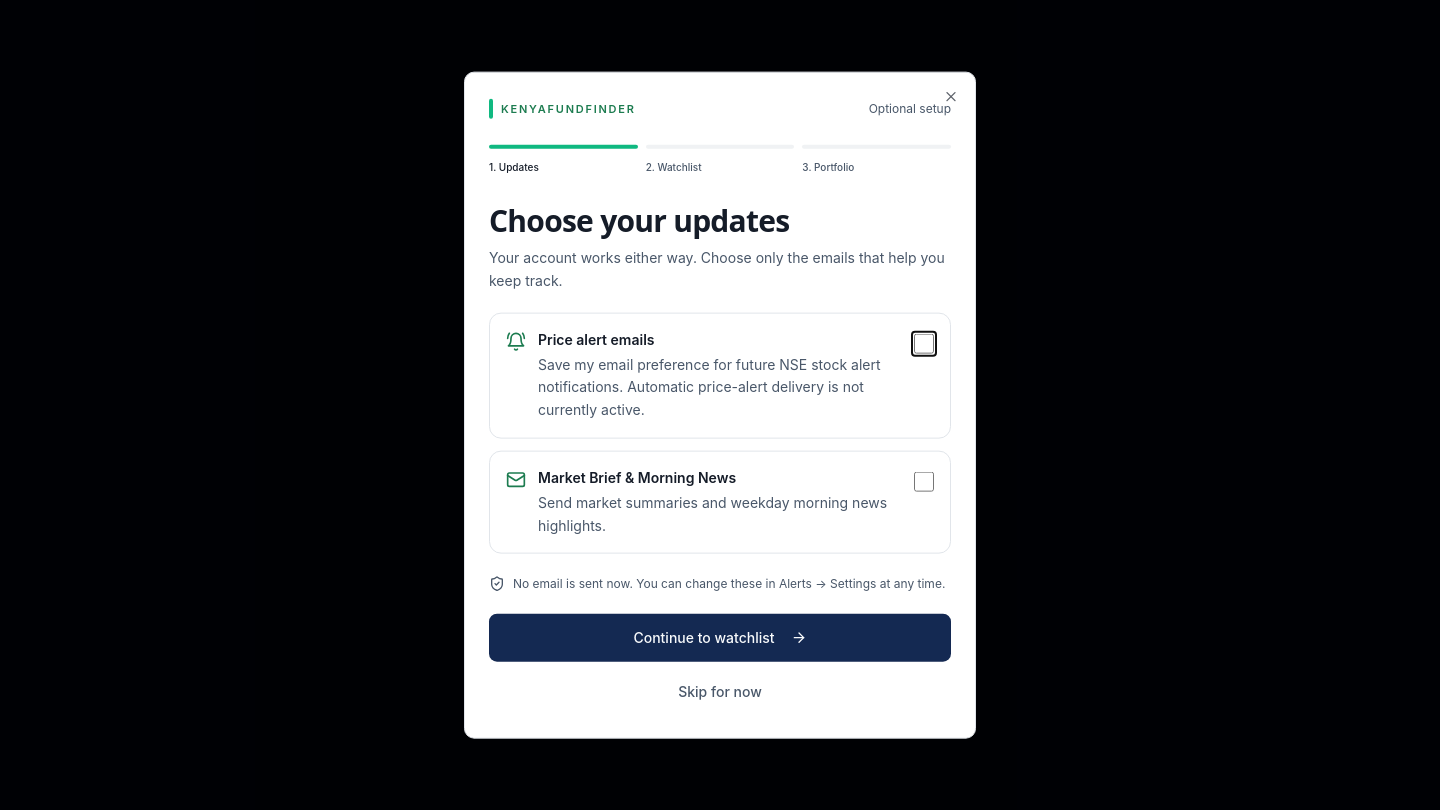
it: OnboardingSetup › limits the watchlist to five and keeps fixed income for the portfolio step
Later steps or results of the test are not shown.
Click the button "Continue to watchlist" at (720, 637), box x1=489 y1=613 x2=951 y2=661
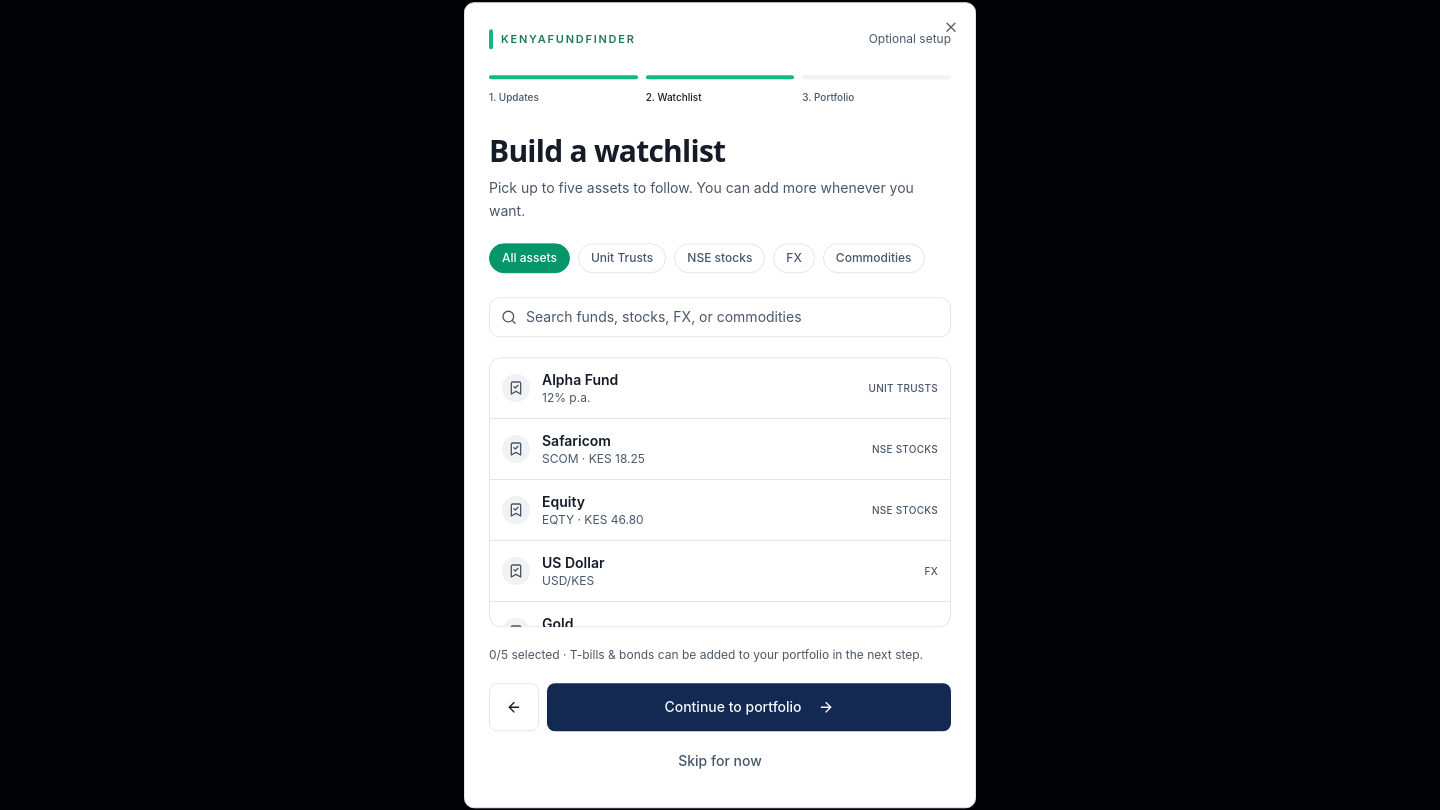
Click the button "Alpha Fund 12% p.a. Unit Trusts" at (580, 379), box x1=490 y1=358 x2=950 y2=418
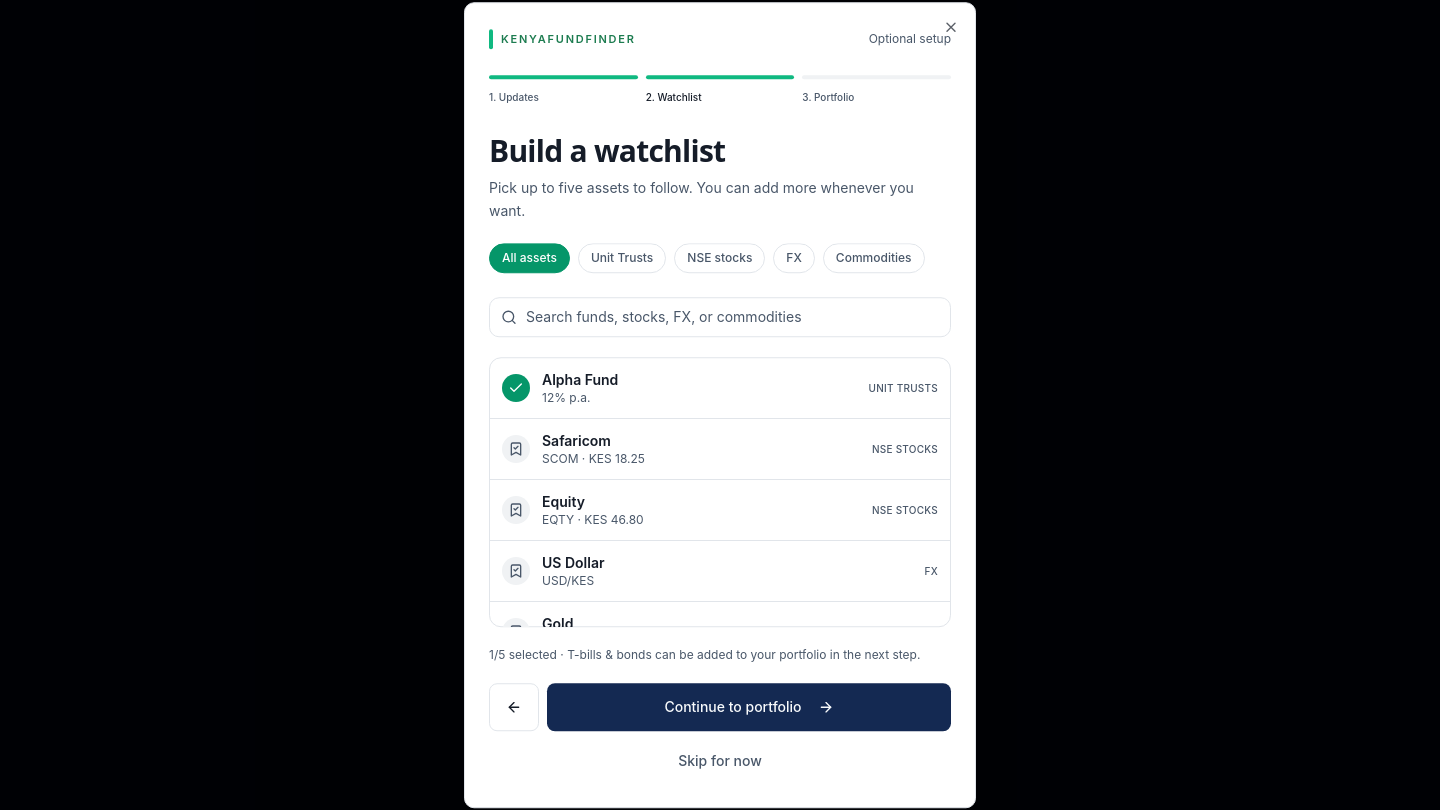
Click the button "Safaricom SCOM · KES 18.25 NSE stocks" at (576, 440), box x1=490 y1=418 x2=950 y2=479
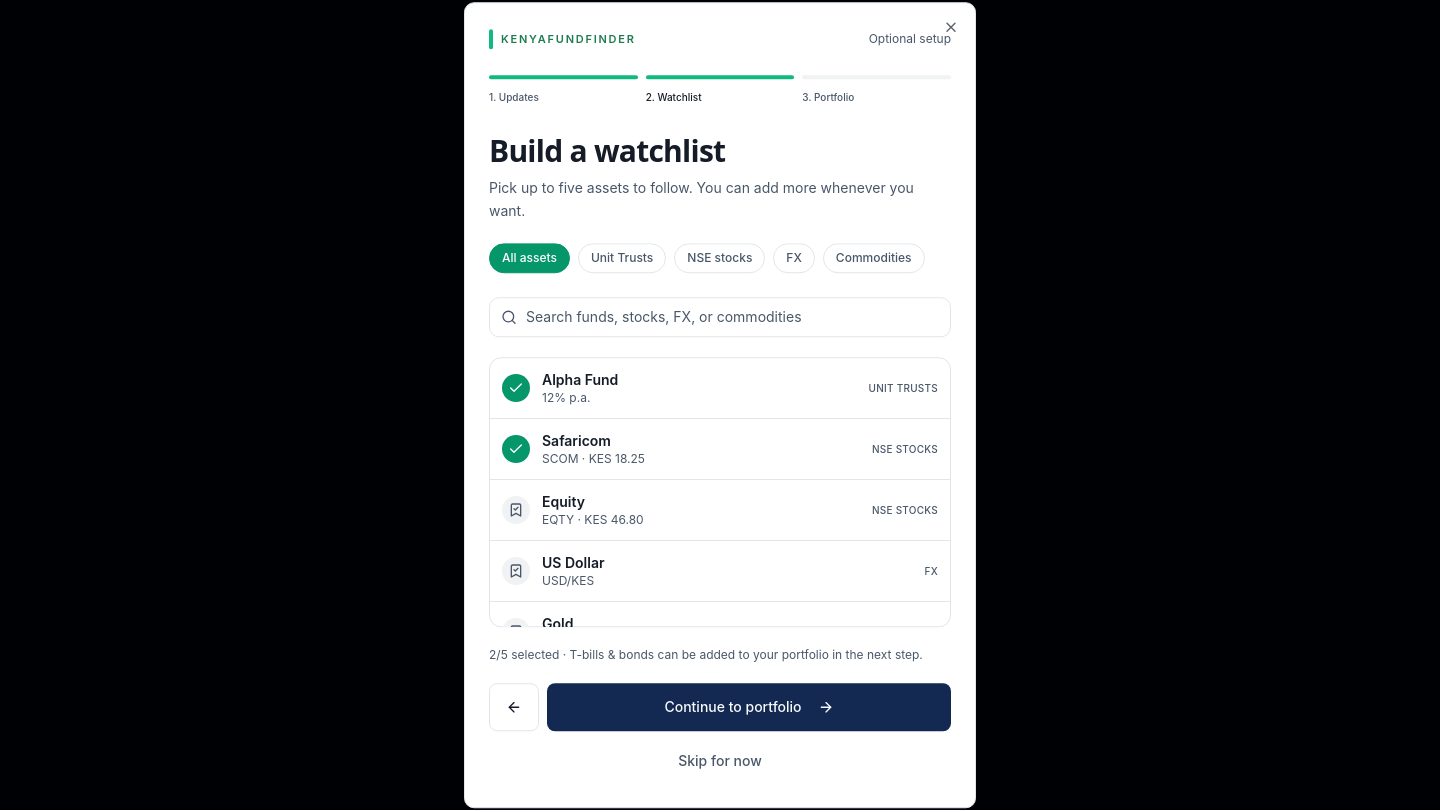
Click the button "Equity EQTY · KES 46.80 NSE stocks" at (563, 501), box x1=490 y1=479 x2=950 y2=540
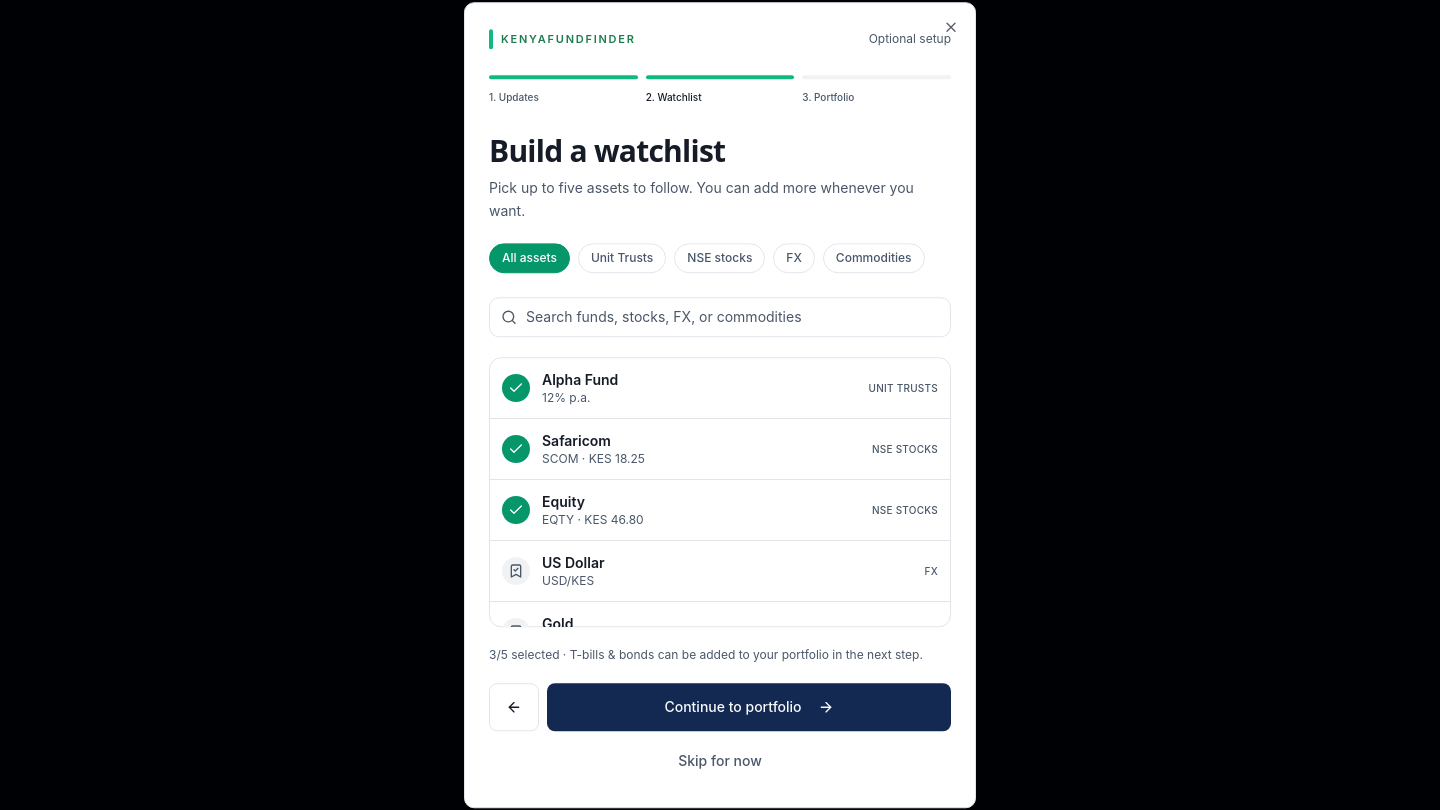
Click the button "US Dollar USD/KES FX" at (573, 562), box x1=490 y1=540 x2=950 y2=601
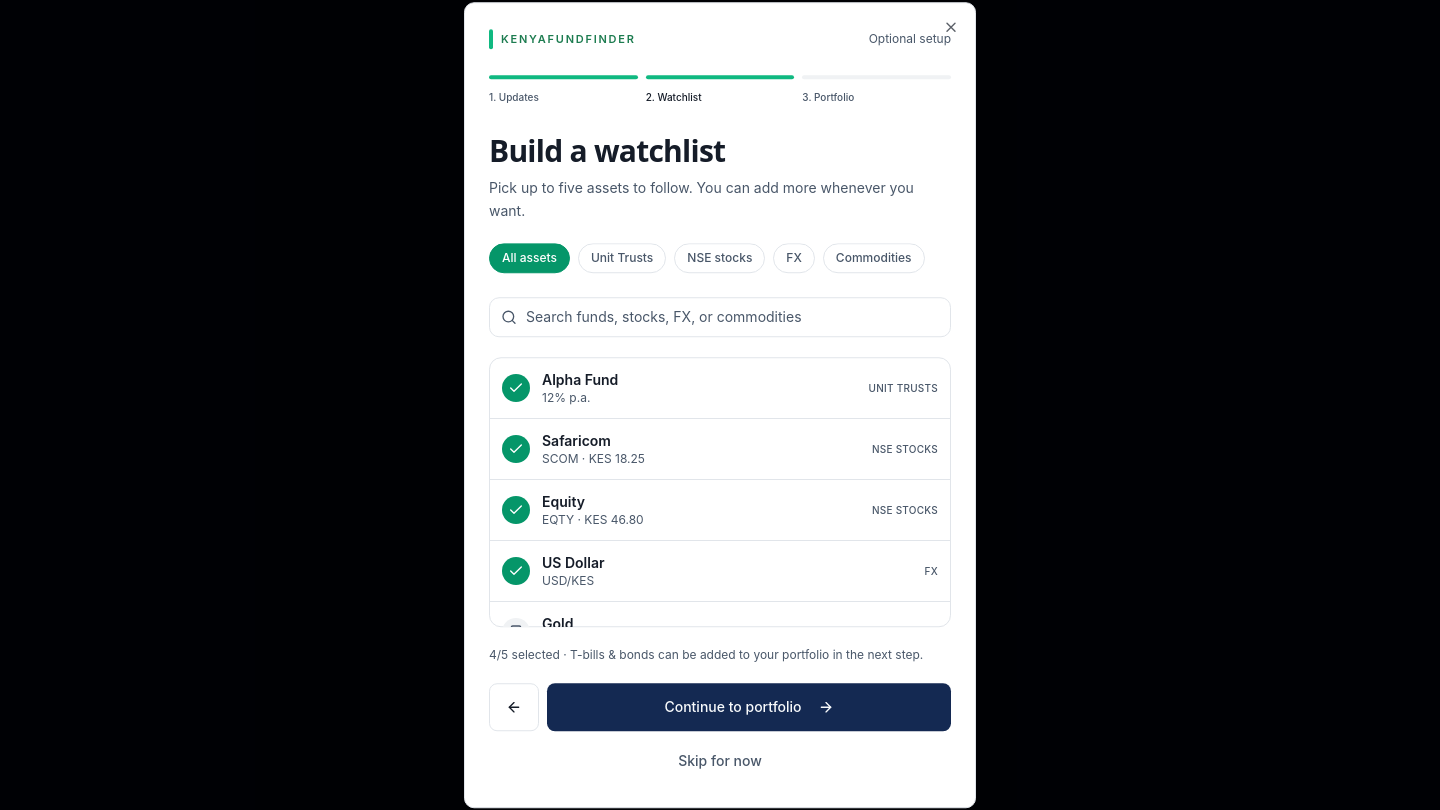
Click the button "Gold XAU Commodities" at (558, 623), box x1=490 y1=601 x2=950 y2=662
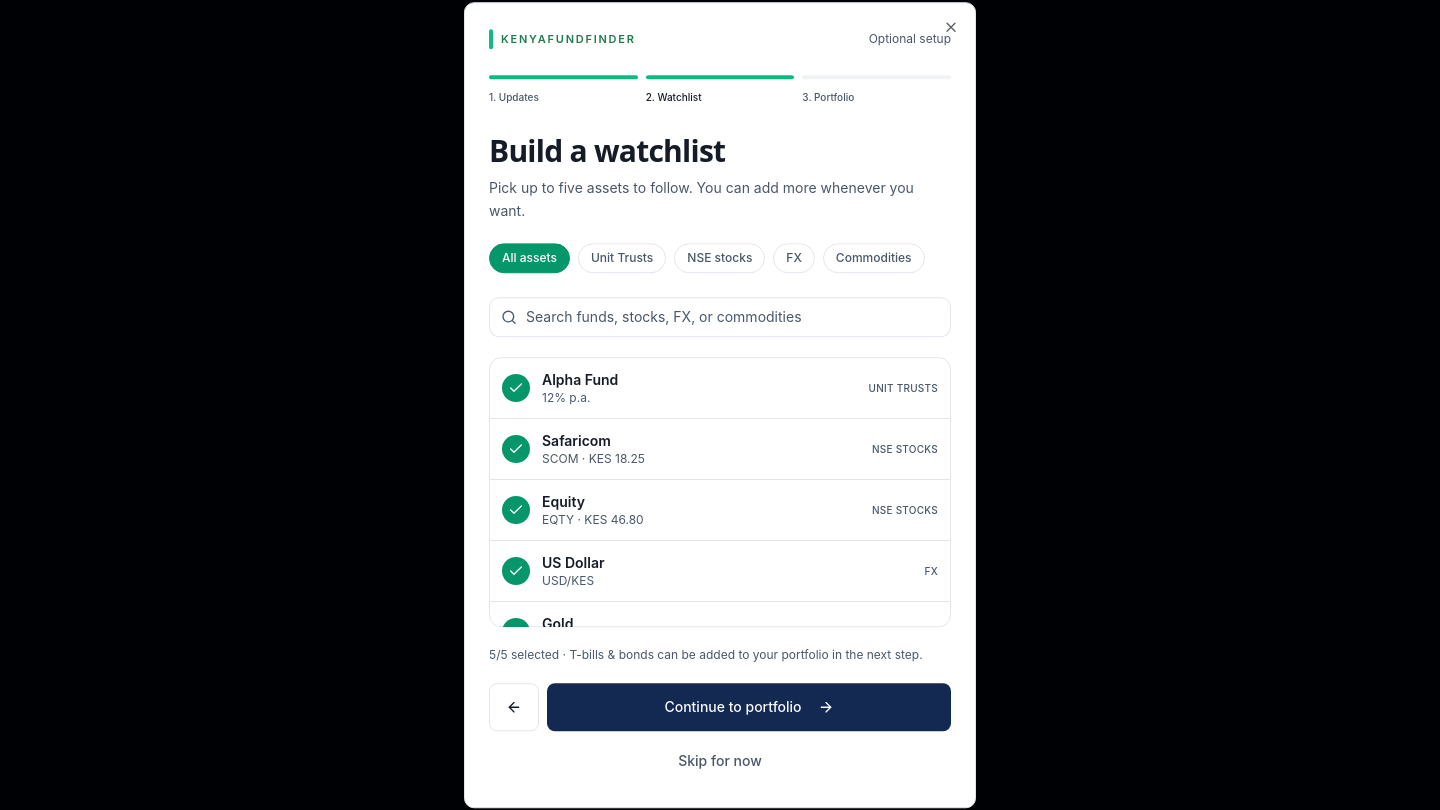
expect the text "5/5 selected" is shown: met, box x1=489 y1=647 x2=951 y2=663
